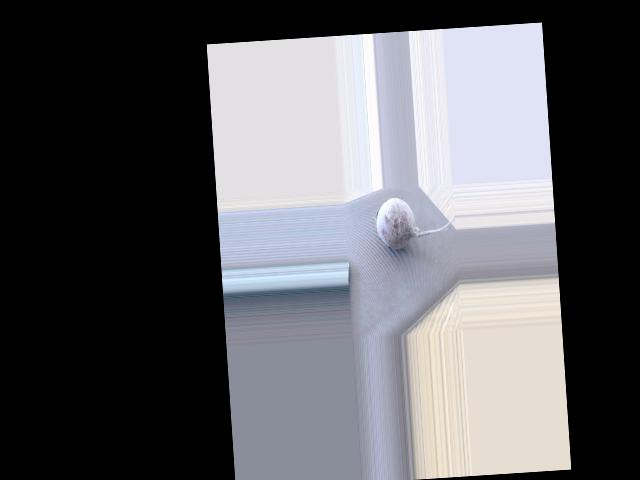beet: (374, 194, 456, 250)
